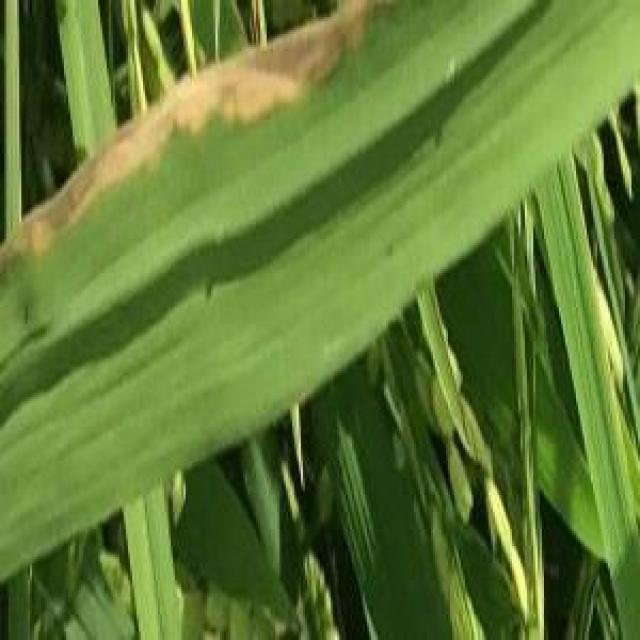Bacterial_Blight: (4, 2, 450, 255)
